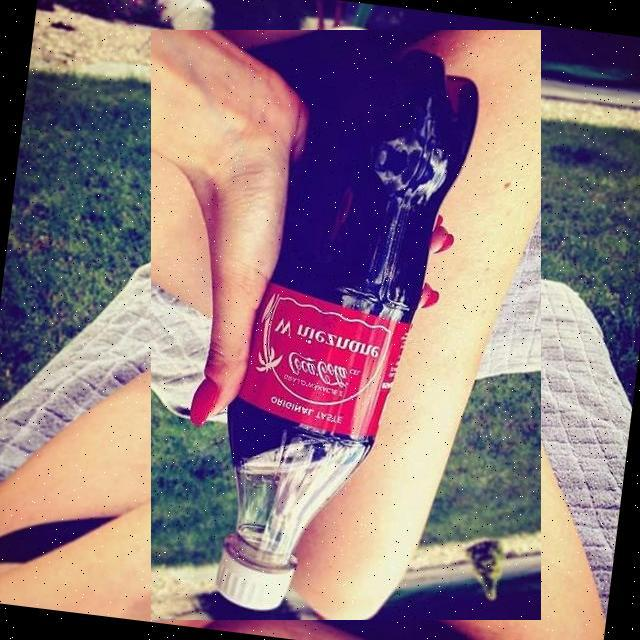coca-cola: (151, 30, 541, 620)
